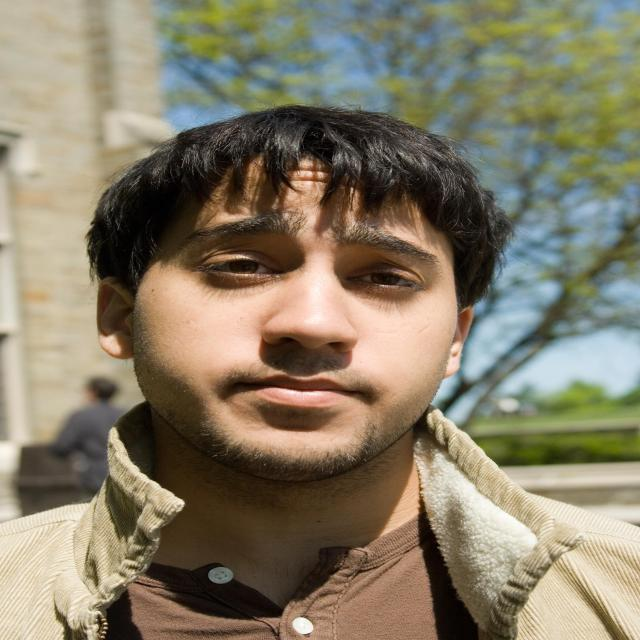no-glass: (190, 257, 422, 294)
